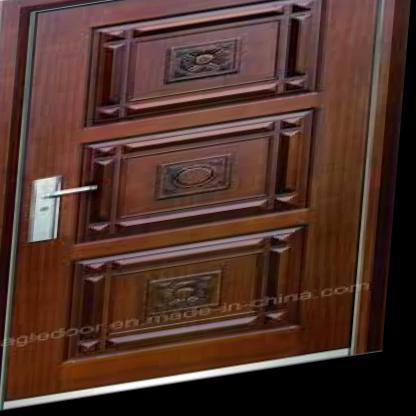door: (0, 0, 386, 387)
